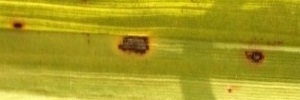RiceBrownSpot: (110, 25, 156, 59), (239, 36, 281, 71), (9, 16, 18, 17)
